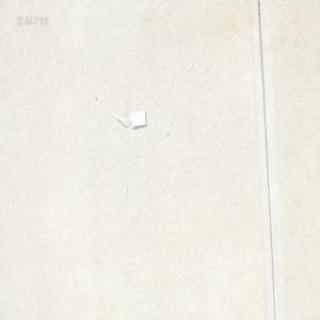LuggageTagtrack_idkeyframe: (112, 109, 146, 128)
